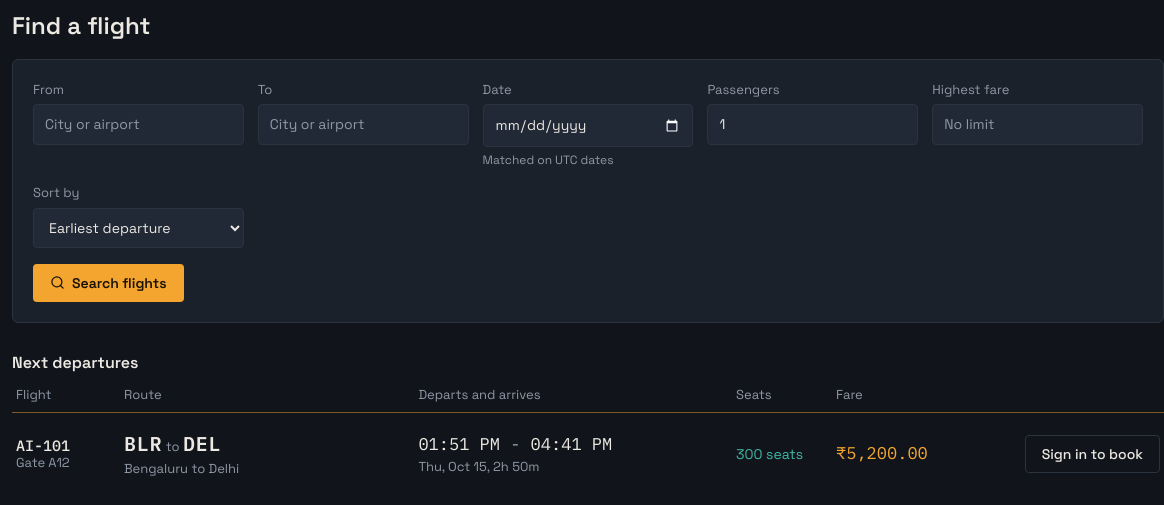
Scenario: SearchPage › searches with the chosen airports and filters
Expected: the text "AI-101" is shown, left=16, top=436, right=70, bottom=455
Type "beng" into the dropdown labelled "From".
click(138, 125); type("beng")  # box left=33, top=104, right=244, bottom=145
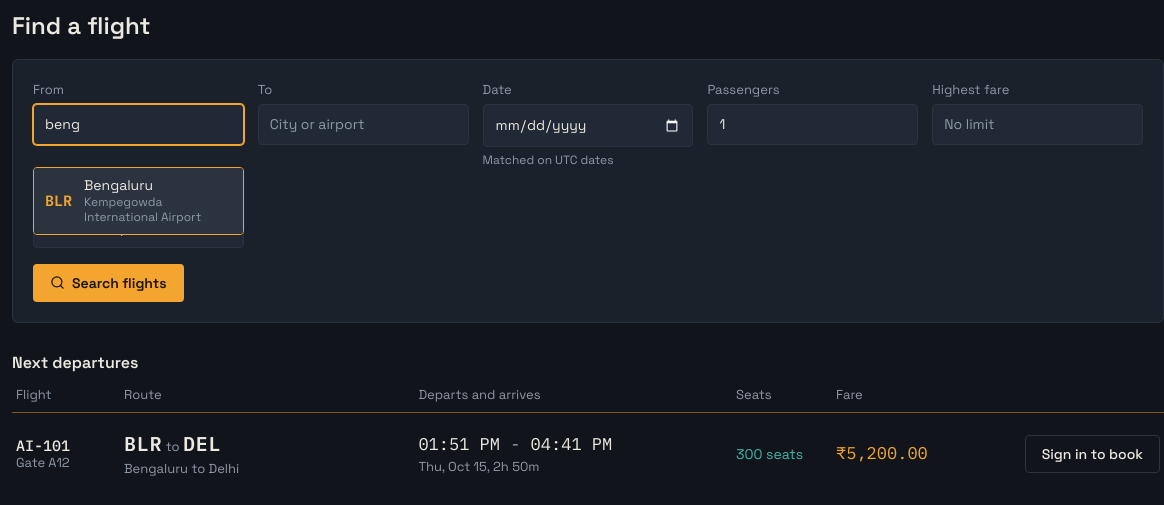
Click the option "BLR Bengaluru Kempegowda International Airport".
click(138, 201)  # box left=34, top=168, right=243, bottom=234
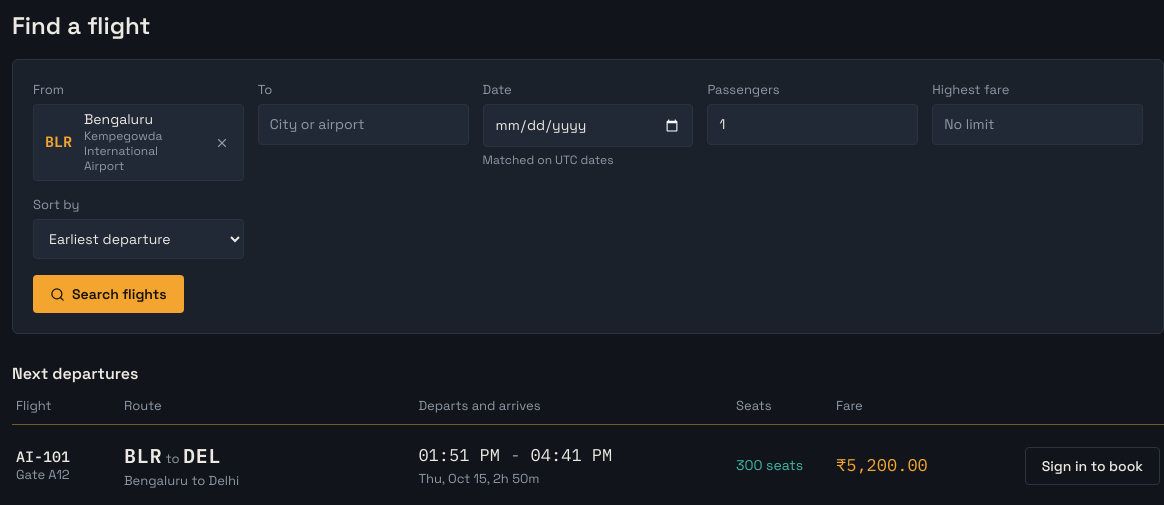
Type "6000" into the number field labelled "Highest fare".
click(1038, 125); type("6000")  # box left=932, top=104, right=1143, bottom=145
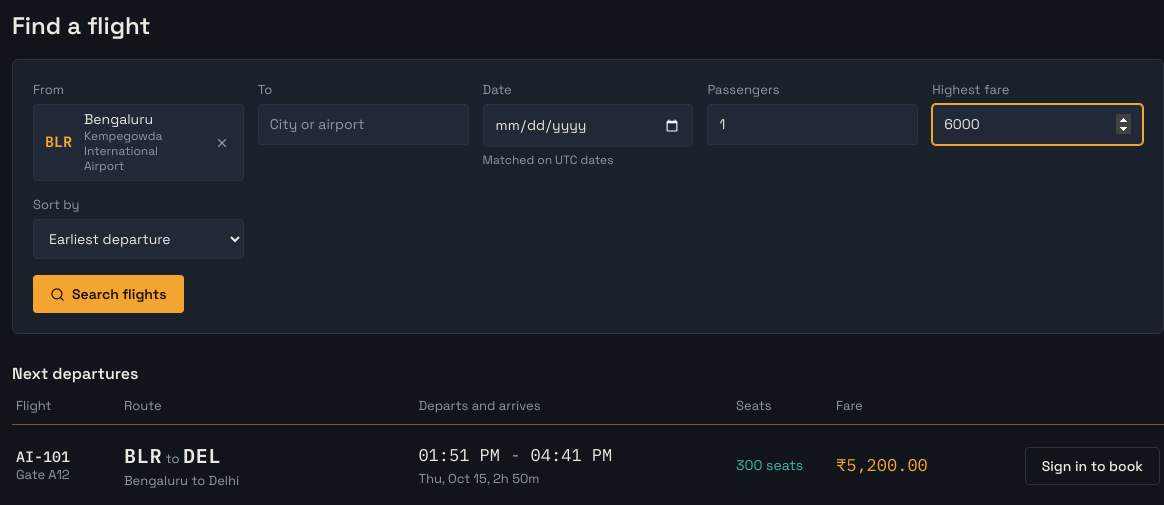
Select "Lowest fare" in the dropdown labelled "Sort by" at (138, 239), box left=33, top=219, right=244, bottom=259
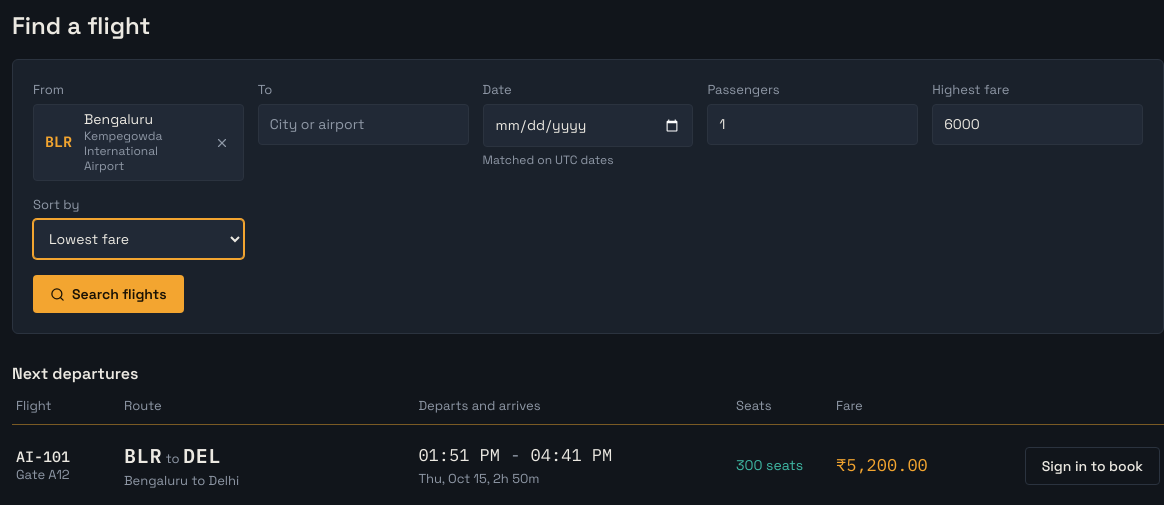
Click the button "Search flights".
click(108, 294)  # box left=33, top=275, right=184, bottom=313
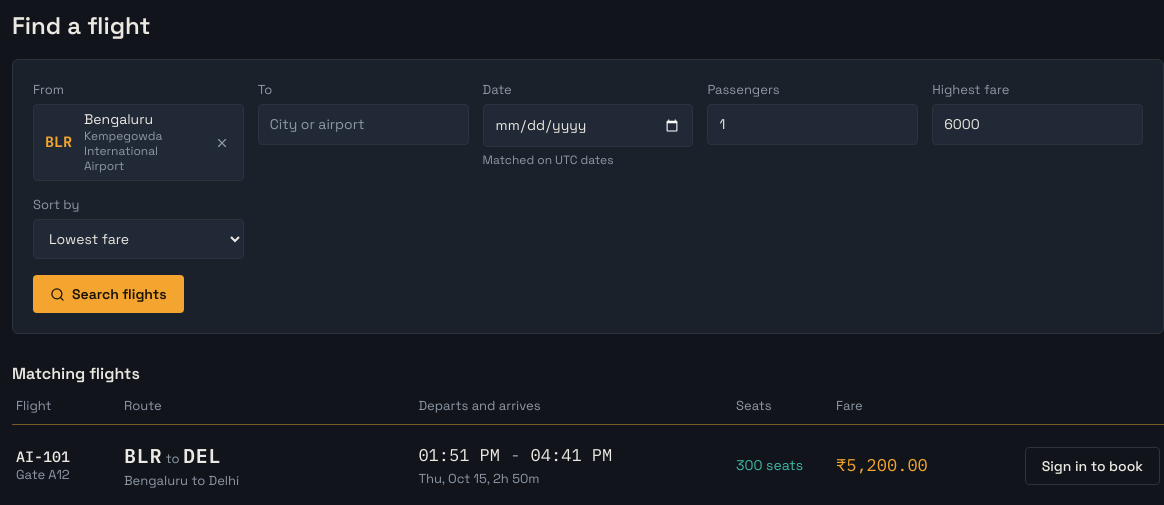
Now the heading "Matching flights" is shown, box left=12, top=363, right=140, bottom=384
